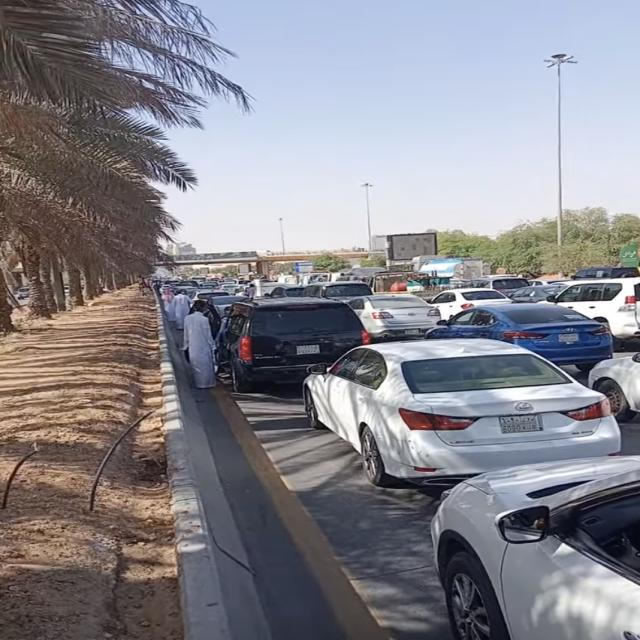license_plate: (498, 412, 543, 436), (295, 344, 323, 356), (558, 331, 580, 344), (404, 328, 421, 337)
